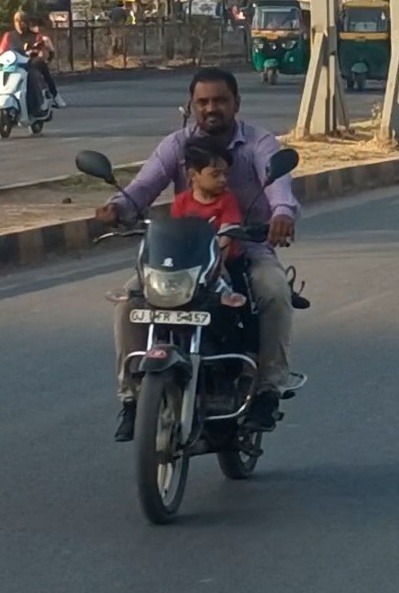BikeWithRider: (74, 59, 319, 534), (0, 0, 91, 144)
NoHelmet: (186, 59, 247, 138), (177, 138, 234, 197), (7, 0, 29, 41), (28, 9, 47, 39)
